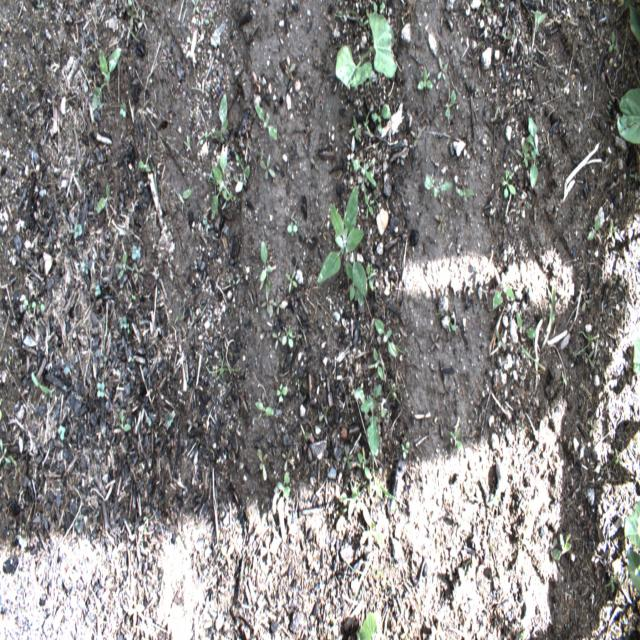crop: (336, 13, 396, 89), (623, 500, 640, 593), (618, 88, 640, 143), (357, 611, 382, 639), (630, 4, 639, 45)
weed: (316, 186, 367, 306), (354, 385, 388, 456), (92, 48, 122, 112), (211, 143, 233, 220), (351, 156, 377, 200), (260, 240, 276, 304), (526, 116, 538, 189), (492, 274, 516, 310), (375, 318, 397, 357), (212, 91, 228, 143), (254, 104, 277, 140), (549, 533, 571, 562), (372, 104, 390, 131), (233, 166, 250, 193), (357, 452, 372, 480), (502, 169, 516, 198), (516, 138, 530, 167), (260, 153, 275, 180), (417, 68, 433, 90)
